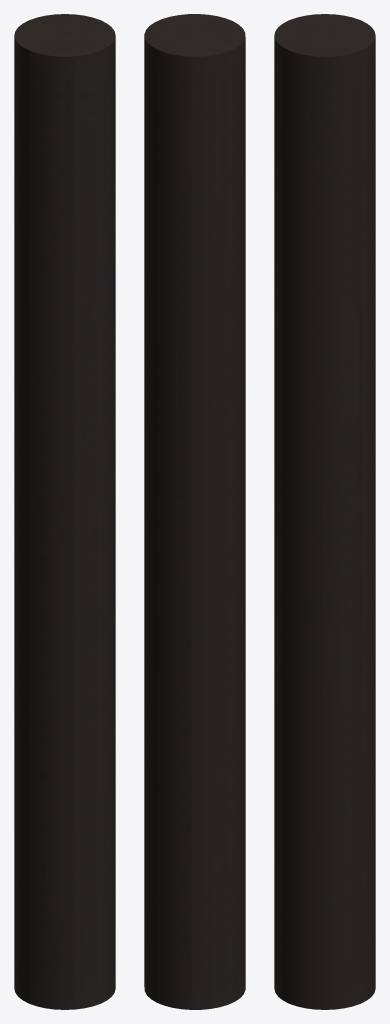
Rendered from seat__hinge_barrel.glb.
The picture shows the model from 3 angles, left to right: view 1: azimuth 90°, elevation 25°; view 2: azimuth 210°, elevation 25°; view 3: azimuth 270°, elevation 25°; orthographic projection.
Parts seen in each view (by area): view 1: world; view 2: world; view 3: world.
Boxes of the visible parts, x1,y1,x2,y2 form: world: (14, 14, 115, 1009); world: (144, 14, 245, 1009); world: (274, 14, 375, 1009).
Size of the model in its own units: 0.036 by 0.374 by 0.036.
1 material, 1 textured.
